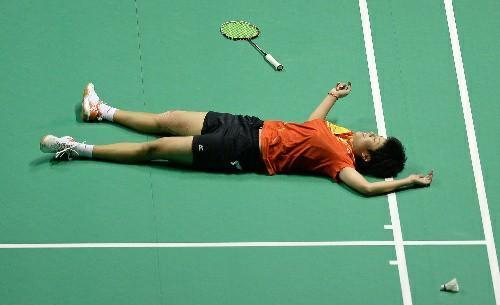Fall-Detected: (24, 74, 436, 196)
